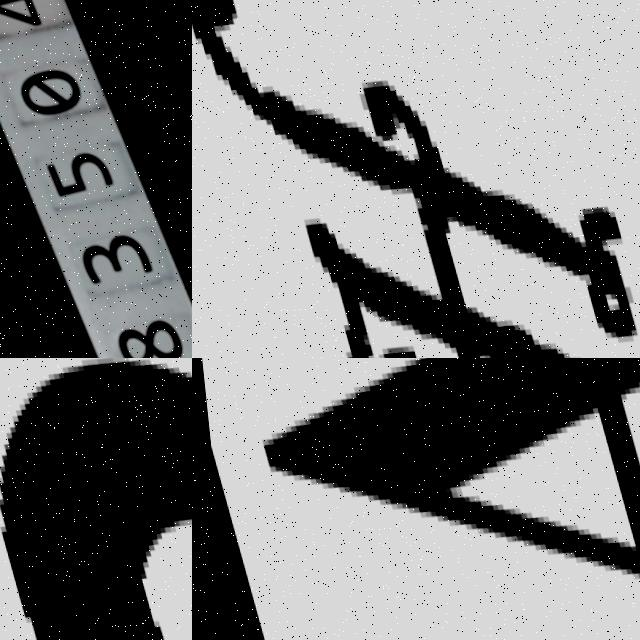0: (0, 47, 99, 133)
2: (0, 358, 192, 640)
3: (50, 214, 162, 302)
4: (0, 0, 65, 43)
5: (22, 134, 123, 213)
8: (84, 300, 192, 358)
A: (192, 358, 640, 640)
H: (265, 39, 640, 358)
